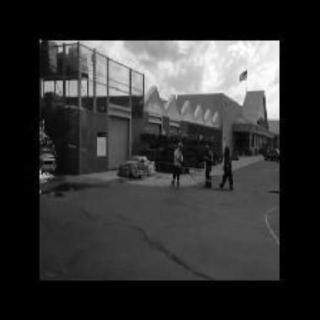Fire: (40, 167, 56, 185)
other: (142, 96, 222, 126)
